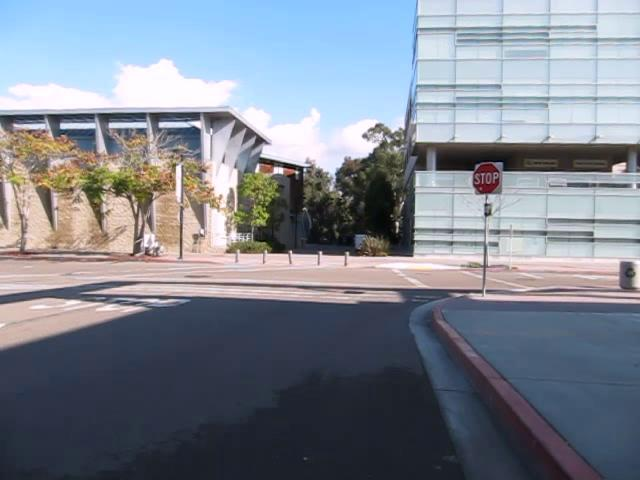stop: (472, 161, 501, 194)
